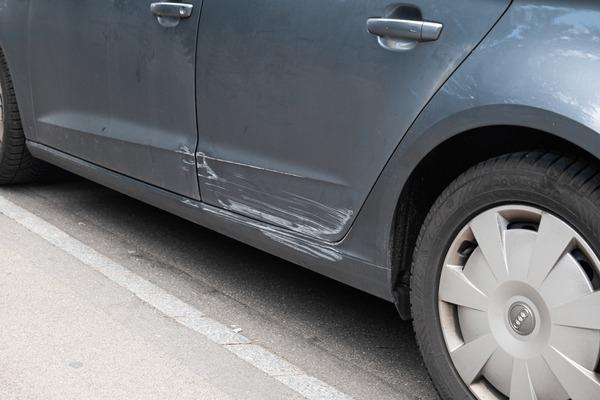scratch: (171, 141, 364, 270)
